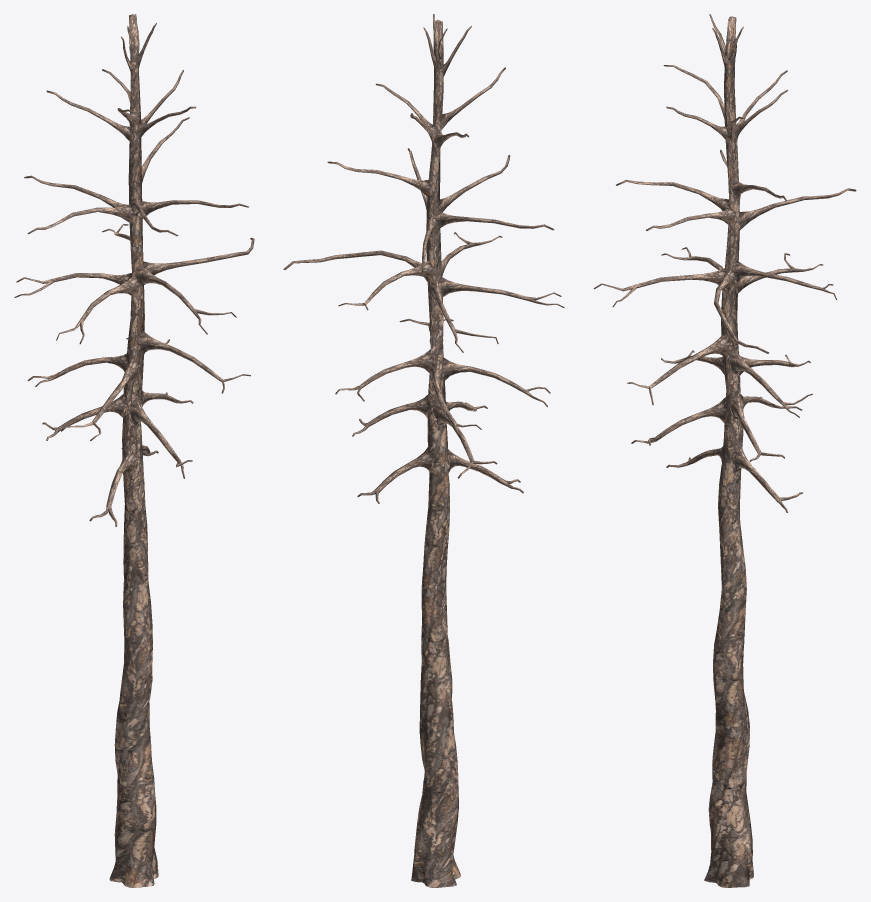
Rendered from dead_tree1.fbx.
3 views of the same model, side by side, from view 1: azimuth 30°, elevation 25°; view 2: azimuth 150°, elevation 25°; view 3: azimuth 270°, elevation 25° (orthographic).
Visible parts, largest first — view 1: dead_tree1; view 2: dead_tree1; view 3: dead_tree1.
Part boxes in pixels (x1=…): dead_tree1: x1=14, y1=14, x2=254, y2=887; dead_tree1: x1=283, y1=14, x2=564, y2=887; dead_tree1: x1=593, y1=14, x2=856, y2=887.
Bounding box in the file's own units: 102 × 340 × 94.1.
